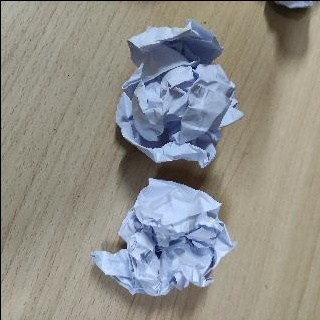8/可回收垃圾/纸: (114, 18, 244, 168), (91, 177, 237, 297)
